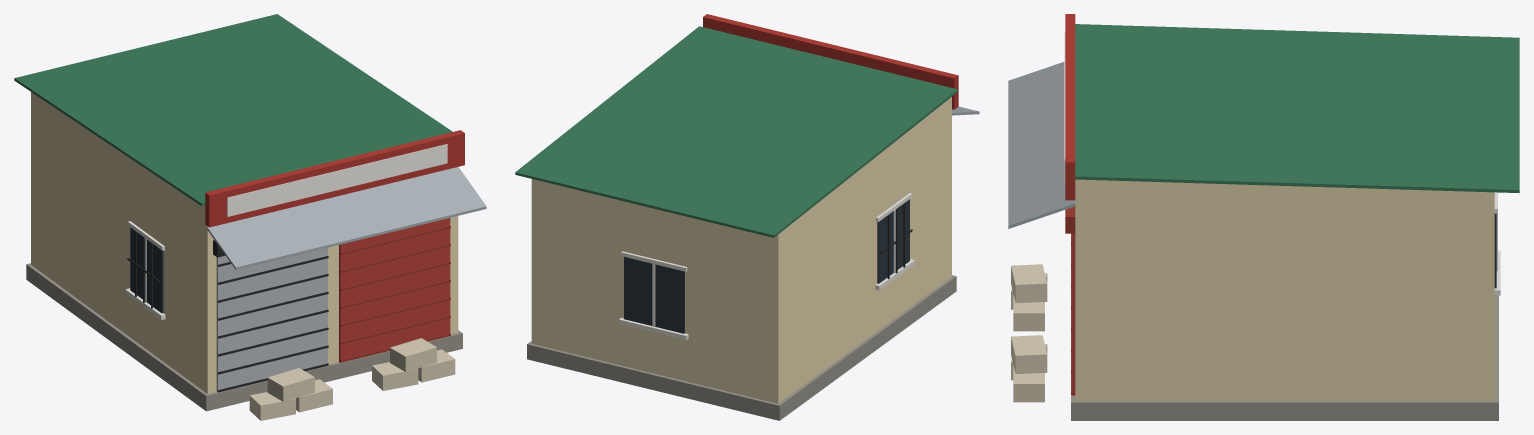
The model's file is BAY_F_Shop_E.glb.
3 views of the same model, side by side, from view 1: azimuth 30°, elevation 25°; view 2: azimuth 150°, elevation 25°; view 3: azimuth 270°, elevation 25° (orthographic). The views are drawn at different scales.
Visible parts, largest first — view 1: BAY_F_Shop_E; view 2: BAY_F_Shop_E; view 3: BAY_F_Shop_E.
Boxes of the visible parts, bbox=[...] form: BAY_F_Shop_E: bbox=[14, 14, 486, 420]; BAY_F_Shop_E: bbox=[515, 14, 979, 420]; BAY_F_Shop_E: bbox=[1008, 14, 1519, 420].
Size of the model in its own units: 4.3 by 3.4 by 6.1.
1 material, 1 textured.
